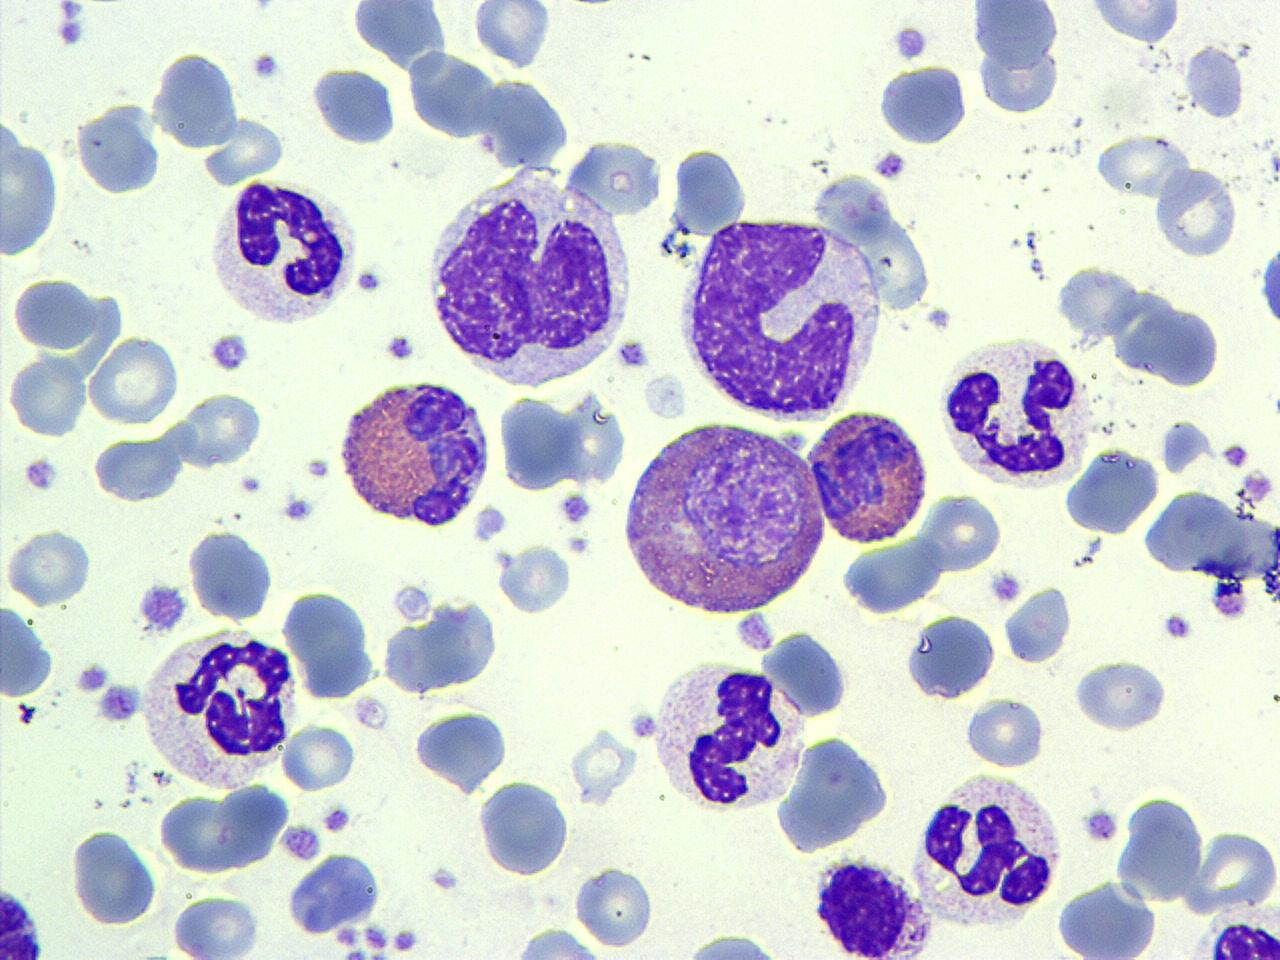Platelets: (495, 542, 576, 618), (1002, 585, 1070, 666), (470, 2, 554, 67), (1156, 420, 1210, 475), (132, 582, 187, 630), (1255, 238, 1280, 331), (94, 681, 142, 725), (207, 330, 253, 373), (279, 821, 324, 864), (734, 608, 774, 654), (1209, 576, 1249, 620), (1079, 805, 1123, 845), (890, 22, 930, 64), (21, 453, 61, 495), (472, 503, 510, 545), (558, 489, 594, 527), (988, 568, 1024, 604), (74, 661, 112, 695), (1158, 609, 1196, 642), (53, 14, 87, 50), (616, 337, 652, 371), (870, 149, 908, 180), (320, 802, 353, 836), (280, 495, 316, 524), (1244, 470, 1276, 502), (384, 332, 416, 364), (427, 863, 462, 892), (250, 50, 282, 81), (627, 709, 658, 740), (389, 926, 420, 956), (1220, 440, 1250, 469), (562, 531, 594, 558), (924, 304, 954, 332), (353, 268, 384, 294), (361, 924, 389, 952), (333, 926, 363, 952), (304, 455, 334, 481), (55, 0, 87, 23), (492, 546, 515, 572), (658, 231, 678, 257), (238, 474, 262, 495), (1267, 388, 1280, 423), (1085, 538, 1103, 560), (250, 1, 276, 16), (342, 943, 368, 958), (1024, 229, 1040, 253), (1267, 150, 1280, 178), (17, 701, 35, 721), (1233, 41, 1251, 60), (1235, 480, 1249, 499), (1029, 256, 1043, 274), (1010, 236, 1023, 248)
RBC: (1112, 790, 1206, 906), (560, 136, 666, 225), (1183, 825, 1279, 920), (86, 332, 180, 426), (1150, 164, 1242, 259), (668, 142, 754, 236), (496, 392, 574, 494), (2, 524, 95, 608), (4, 350, 89, 441), (574, 862, 656, 951), (557, 388, 628, 490), (918, 491, 1006, 573), (1148, 302, 1226, 389), (1092, 133, 1190, 201), (1054, 262, 1140, 337), (999, 586, 1075, 668), (964, 694, 1046, 770), (169, 892, 262, 958), (494, 542, 574, 618), (281, 722, 358, 793)
WBC: (425, 163, 638, 394), (678, 214, 886, 427), (618, 416, 828, 620), (138, 623, 298, 797), (905, 765, 1067, 936), (649, 653, 808, 819), (937, 329, 1093, 497), (336, 374, 494, 533), (205, 172, 360, 330), (806, 404, 934, 548), (774, 729, 896, 856), (379, 581, 502, 699), (811, 853, 937, 959), (1143, 482, 1280, 577), (278, 583, 379, 703), (968, 1, 1066, 118), (1, 104, 66, 264), (148, 48, 246, 153), (1115, 790, 1205, 902), (476, 775, 572, 878), (1062, 443, 1162, 540), (67, 825, 160, 929), (901, 610, 1001, 704), (412, 705, 511, 796), (74, 98, 164, 197), (285, 849, 385, 937), (834, 538, 946, 616), (173, 387, 269, 478), (186, 526, 277, 622), (1150, 164, 1242, 258), (875, 59, 972, 148), (1054, 877, 1158, 960), (496, 391, 574, 496), (763, 628, 853, 719), (1072, 655, 1172, 736), (670, 140, 751, 238), (308, 63, 401, 147), (3, 352, 92, 439), (1, 525, 93, 608), (572, 862, 658, 950), (1054, 260, 1140, 342), (353, 2, 450, 74), (93, 431, 182, 506), (170, 894, 267, 960), (494, 539, 574, 618), (1001, 582, 1073, 668), (470, 0, 553, 72), (0, 600, 59, 700), (1183, 41, 1247, 123), (1184, 906, 1280, 960), (485, 924, 621, 958), (1082, 0, 1184, 45), (666, 928, 800, 958), (0, 877, 50, 957), (1256, 235, 1280, 332)
